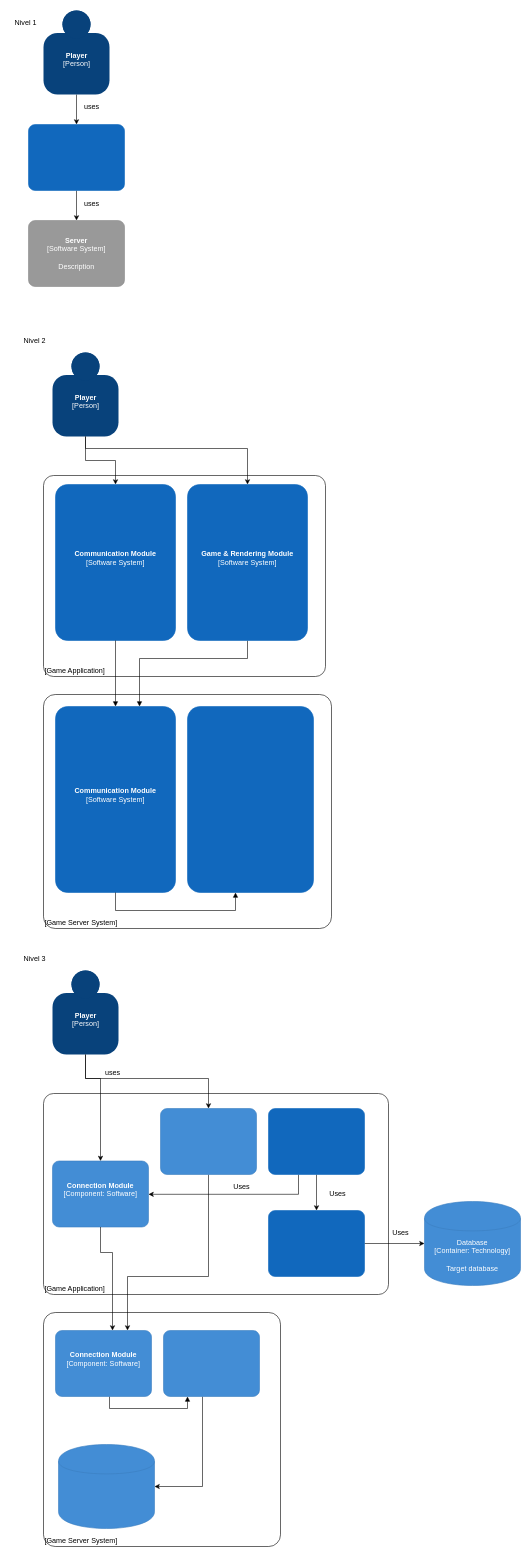
Image size: 531x1557. Some labels were removed from this diagram. The shapes that lost their labels are listed below. From the top down, each one's centre as x and y in pixels, then its label:
pixel 76 157: Game Appilcation [Software System] Description
pixel 250 799: Server Module [Software System]
pixel 208 1141: Interaction module [Component: software] Input
pixel 316 1141: Unity Engine [Software System]
pixel 316 1243: Vuforia Engine [Software System]
pixel 211 1363: Game Manager [Component: software]
pixel 106 1486: Database [Container: Software] Game Database
